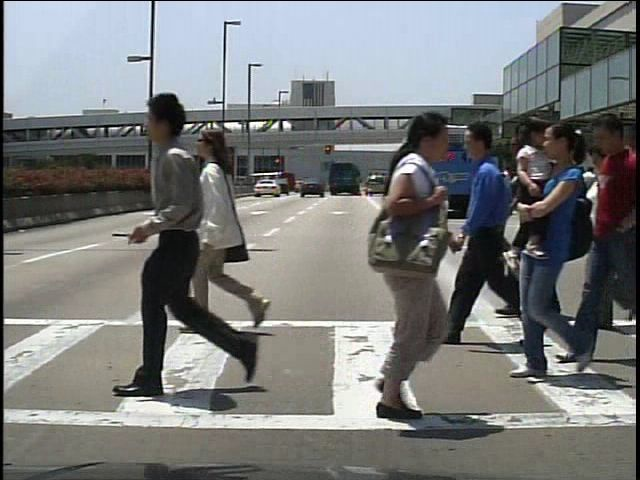person: (115, 78, 278, 416), (339, 112, 469, 424), (165, 119, 293, 343), (447, 116, 525, 343), (492, 130, 564, 322), (590, 143, 631, 346), (582, 168, 602, 218), (488, 162, 506, 215)
